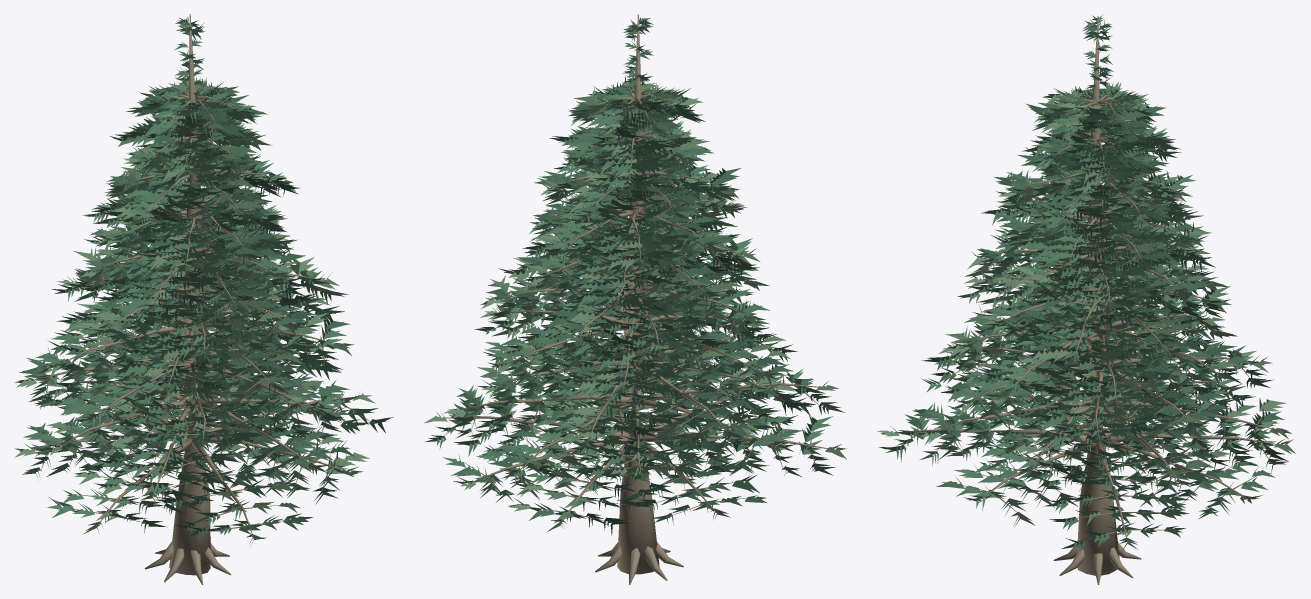
File: tree_conifer.glb
The picture shows the model from 3 angles, left to right: view 1: azimuth 30°, elevation 25°; view 2: azimuth 150°, elevation 25°; view 3: azimuth 270°, elevation 25°; orthographic projection.
Parts seen in each view (by area): view 1: tree_conifer_ConiferLeaf, tree_conifer_ConiferLeafLight, tree_conifer_ConiferLeafDark, tree_conifer_ConiferBark; view 2: tree_conifer_ConiferLeaf, tree_conifer_ConiferLeafLight, tree_conifer_ConiferLeafDark, tree_conifer_ConiferBark; view 3: tree_conifer_ConiferLeaf, tree_conifer_ConiferLeafLight, tree_conifer_ConiferLeafDark, tree_conifer_ConiferBark.
Part boxes in pixels (box(x1,y1,x2,y2)): tree_conifer_ConiferLeaf: box(19, 17, 378, 534); tree_conifer_ConiferLeafLight: box(14, 77, 375, 546); tree_conifer_ConiferLeafDark: box(30, 80, 393, 541); tree_conifer_ConiferBark: box(30, 14, 372, 584); tree_conifer_ConiferLeaf: box(424, 17, 835, 524); tree_conifer_ConiferLeafLight: box(424, 76, 846, 532); tree_conifer_ConiferLeafDark: box(450, 82, 815, 535); tree_conifer_ConiferBark: box(440, 14, 831, 584); tree_conifer_ConiferLeaf: box(878, 15, 1275, 546); tree_conifer_ConiferLeafLight: box(877, 82, 1295, 552); tree_conifer_ConiferLeafDark: box(912, 83, 1288, 551); tree_conifer_ConiferBark: box(898, 16, 1276, 584).
Size of the model in its own units: 9.28 by 13.32 by 9.23.
